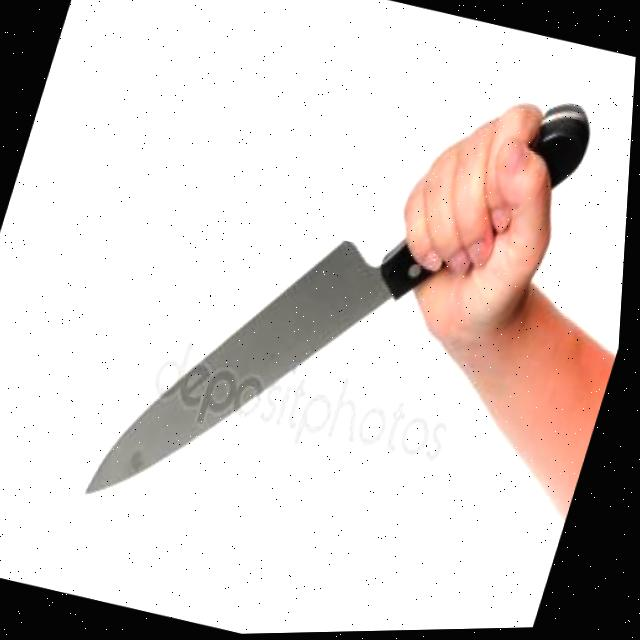knife: (82, 178, 457, 569)
